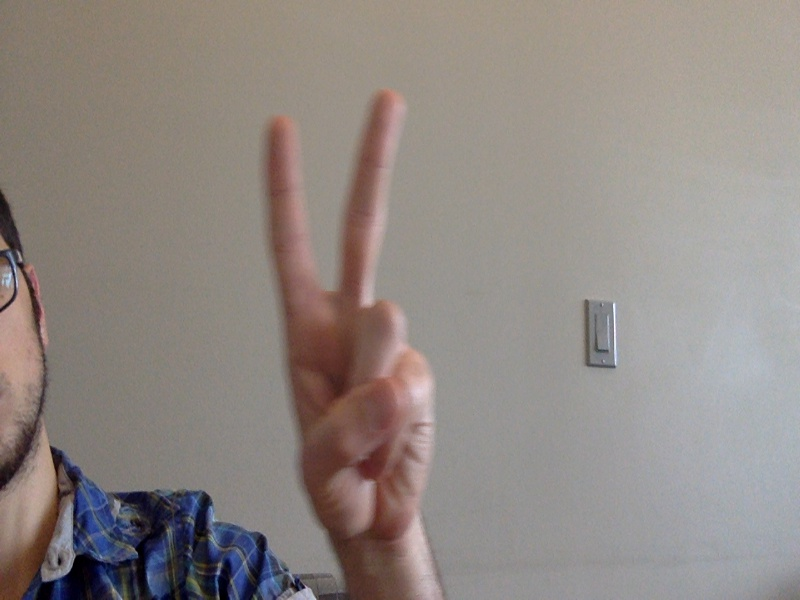2-hand: (263, 92, 435, 541)
